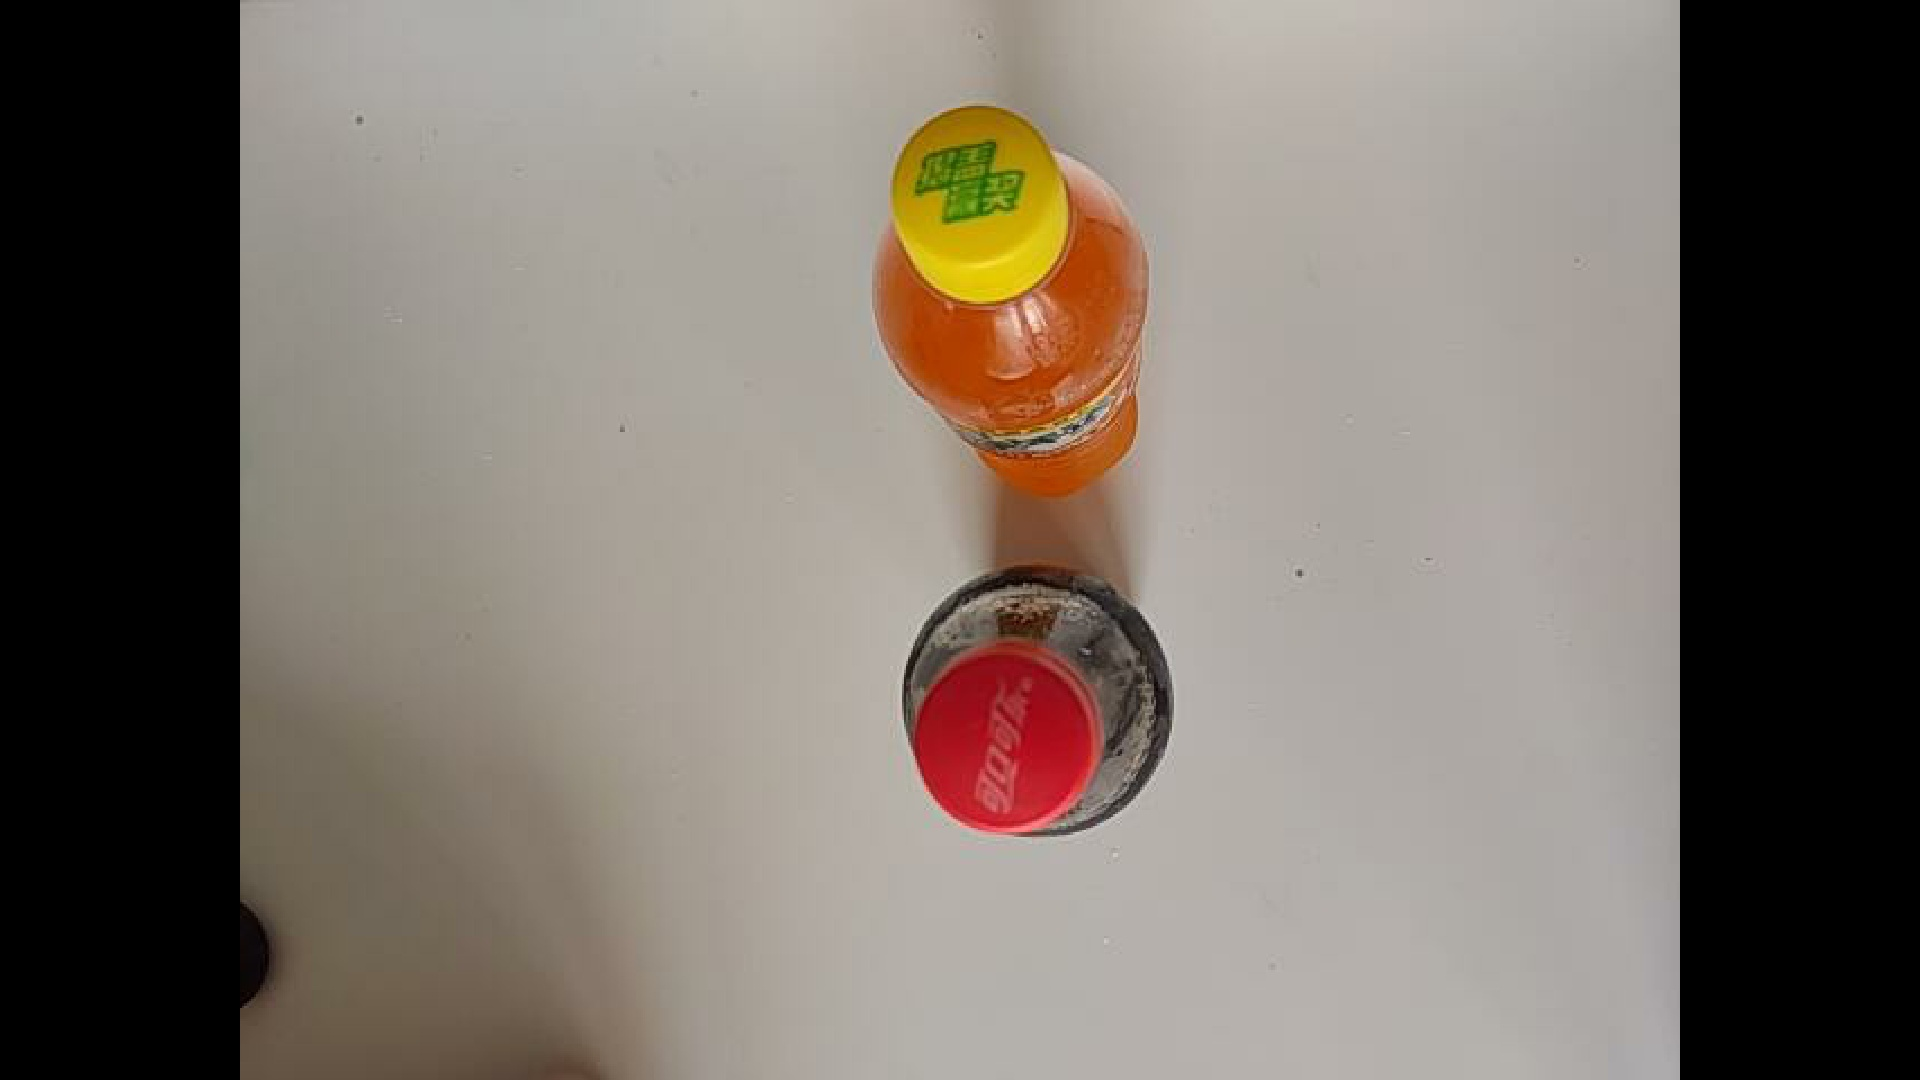cola: (901, 561, 1175, 838)
fenta: (868, 104, 1153, 502)
